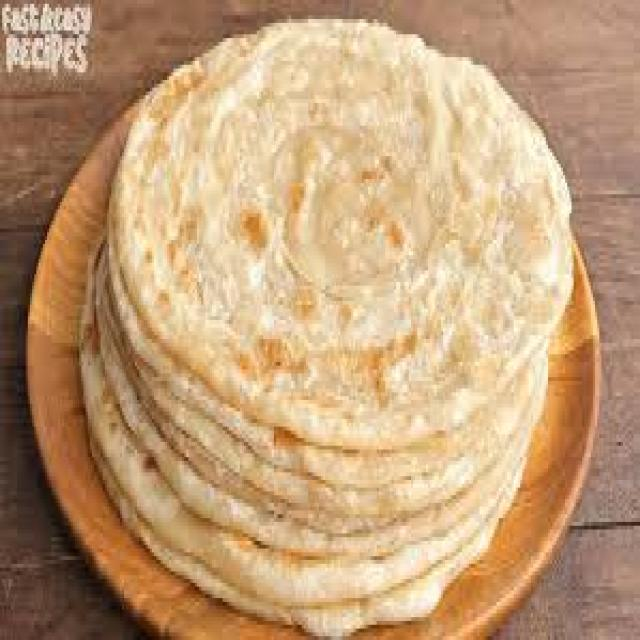RICE BHAKRI: (79, 19, 572, 632)
